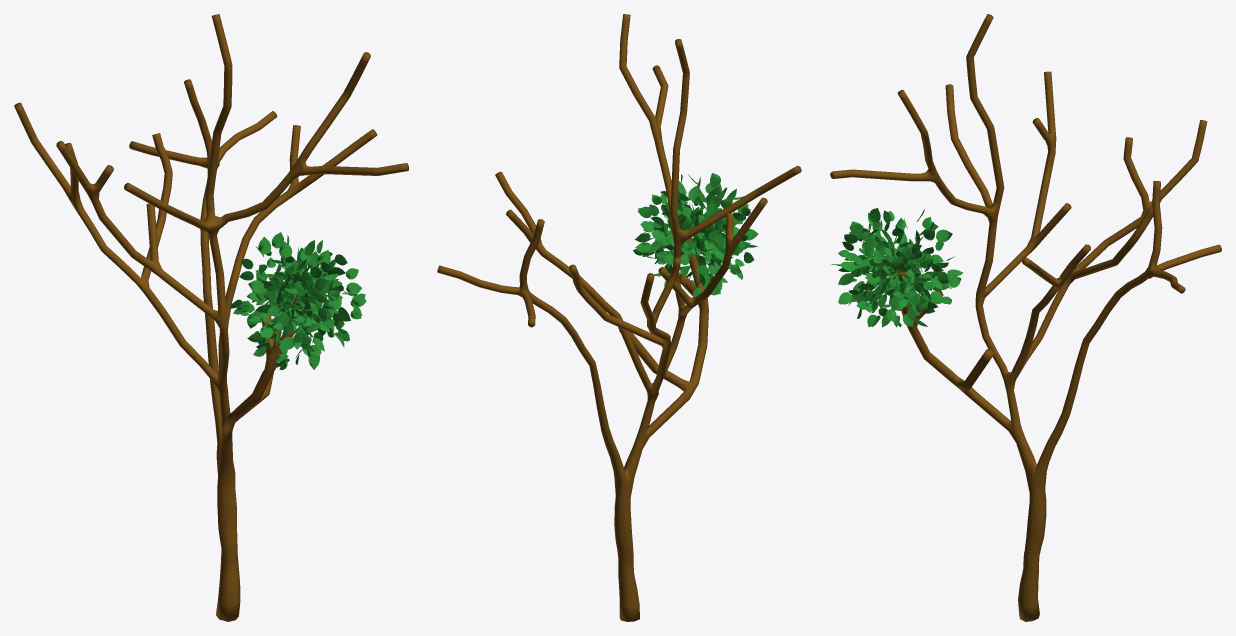
Rendered from Tree.fbx.
The picture shows the model from 3 angles, left to right: view 1: azimuth 30°, elevation 25°; view 2: azimuth 150°, elevation 25°; view 3: azimuth 270°, elevation 25°; orthographic projection. The views are drawn at different scales.
Visible parts, largest first — view 1: Cube, Leaf.001; view 2: Cube, Leaf.001; view 3: Cube, Leaf.001.
Part boxes in pixels (x1=…): Cube: x1=14, y1=14, x2=408, y2=621; Leaf.001: x1=230, y1=232, x2=366, y2=369; Cube: x1=437, y1=14, x2=801, y2=621; Leaf.001: x1=633, y1=173, x2=758, y2=297; Cube: x1=830, y1=14, x2=1221, y2=621; Leaf.001: x1=831, y1=208, x2=963, y2=327.
Bounding box in the file's own units: 597 × 1159 × 700.
